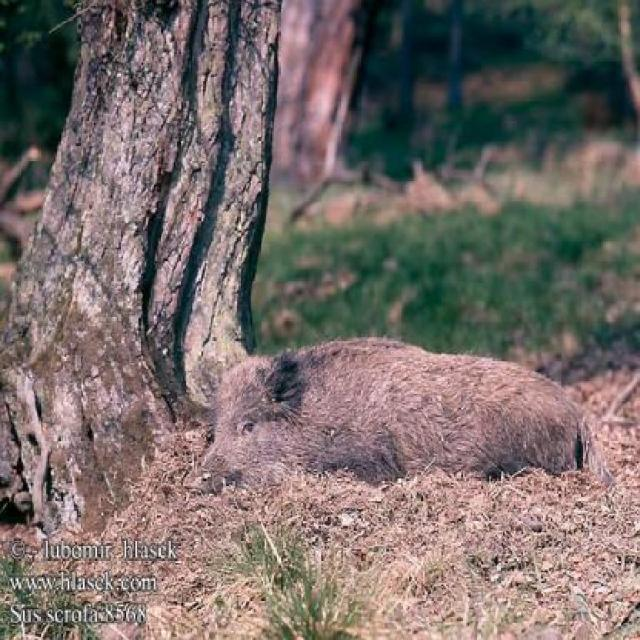wildboar: (185, 322, 610, 522)
